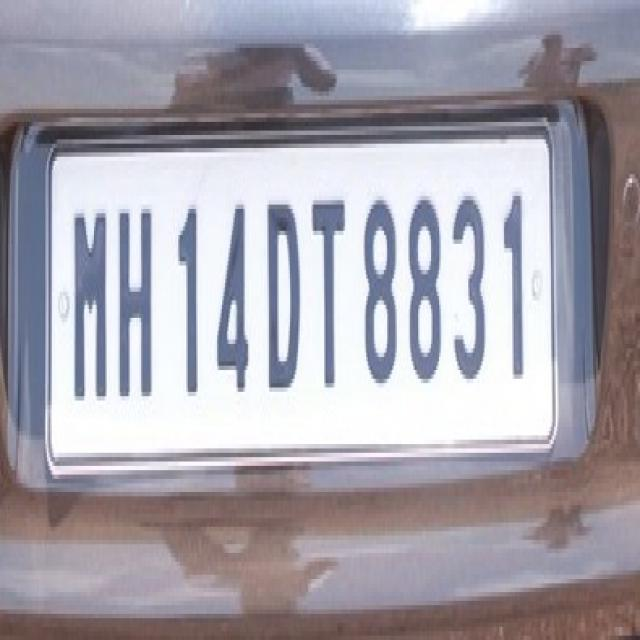Plate: (45, 123, 554, 458)
